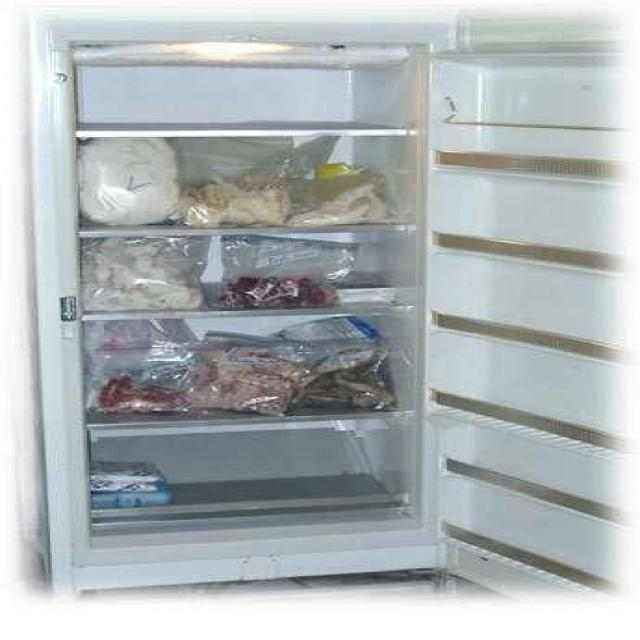refrigerator: (28, 14, 488, 590)
